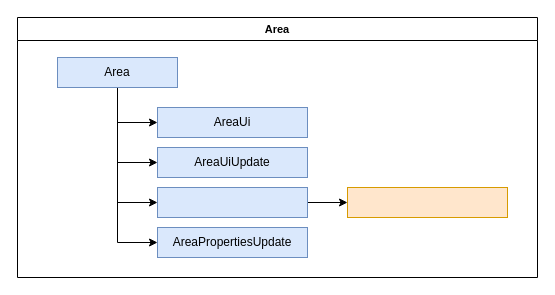
This 555x295 diagram has some shape labels left out. The shapes that lost their labels are listed below. From the top down, each one's box as (x1, y1, x2, y2) in pixels, then its label:
(156, 186, 308, 218): AreaProperties
(346, 186, 508, 218): AdequacyPatchMode
